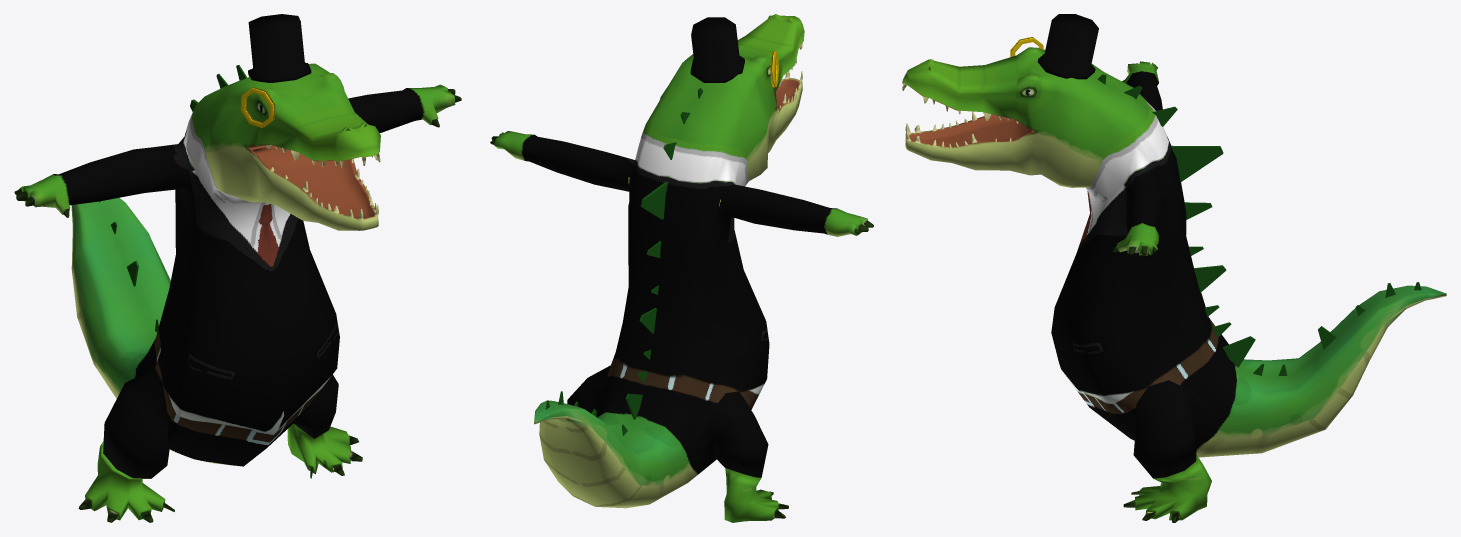
Rendered from crocodile_vest.fbx.
The picture shows the model from 3 angles, left to right: view 1: azimuth 30°, elevation 25°; view 2: azimuth 150°, elevation 25°; view 3: azimuth 270°, elevation 25°; orthographic projection. The views are drawn at different scales.
Parts seen in each view (by area): view 1: crocodile, Cylinder, Cylinder.001, crocodile_thorn; view 2: crocodile, Cylinder, crocodile_thorn; view 3: crocodile, crocodile_thorn, Cylinder.
Part boxes in pixels (x1,y1,x2,y2): crocodile: (14,63,461,522); Cylinder: (248,14,311,82); Cylinder.001: (240,87,275,127); crocodile_thorn: (99,65,246,332); crocodile: (490,14,873,522); Cylinder: (690,17,744,82); crocodile_thorn: (545,88,703,435); crocodile: (902,47,1446,522); crocodile_thorn: (1097,74,1421,375); Cylinder: (1037,14,1098,79).
Bounding box in the file's own units: 277 × 305 × 337.
4 materials, 2 textured.
